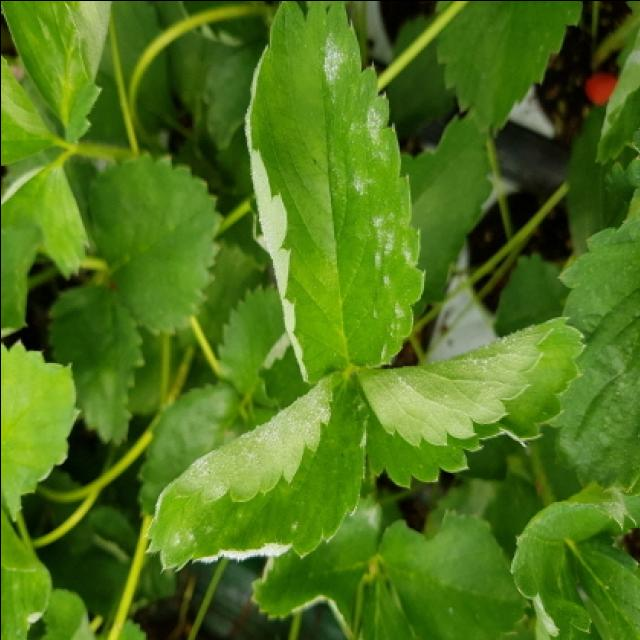Powdery Mildew Leaf: (242, 2, 426, 384), (142, 372, 365, 569), (349, 315, 591, 487), (250, 491, 384, 640)
